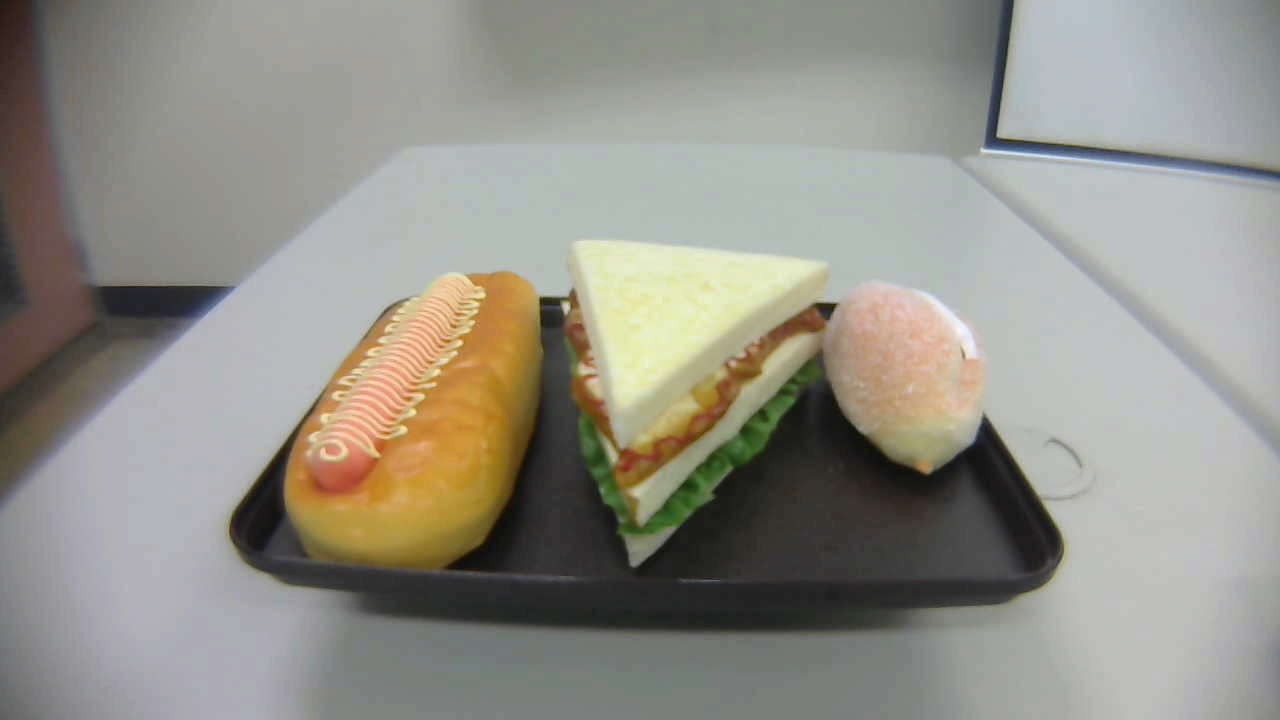coconut: (826, 281, 986, 474)
hot dog: (282, 272, 545, 575)
sandwich: (561, 242, 826, 574)
